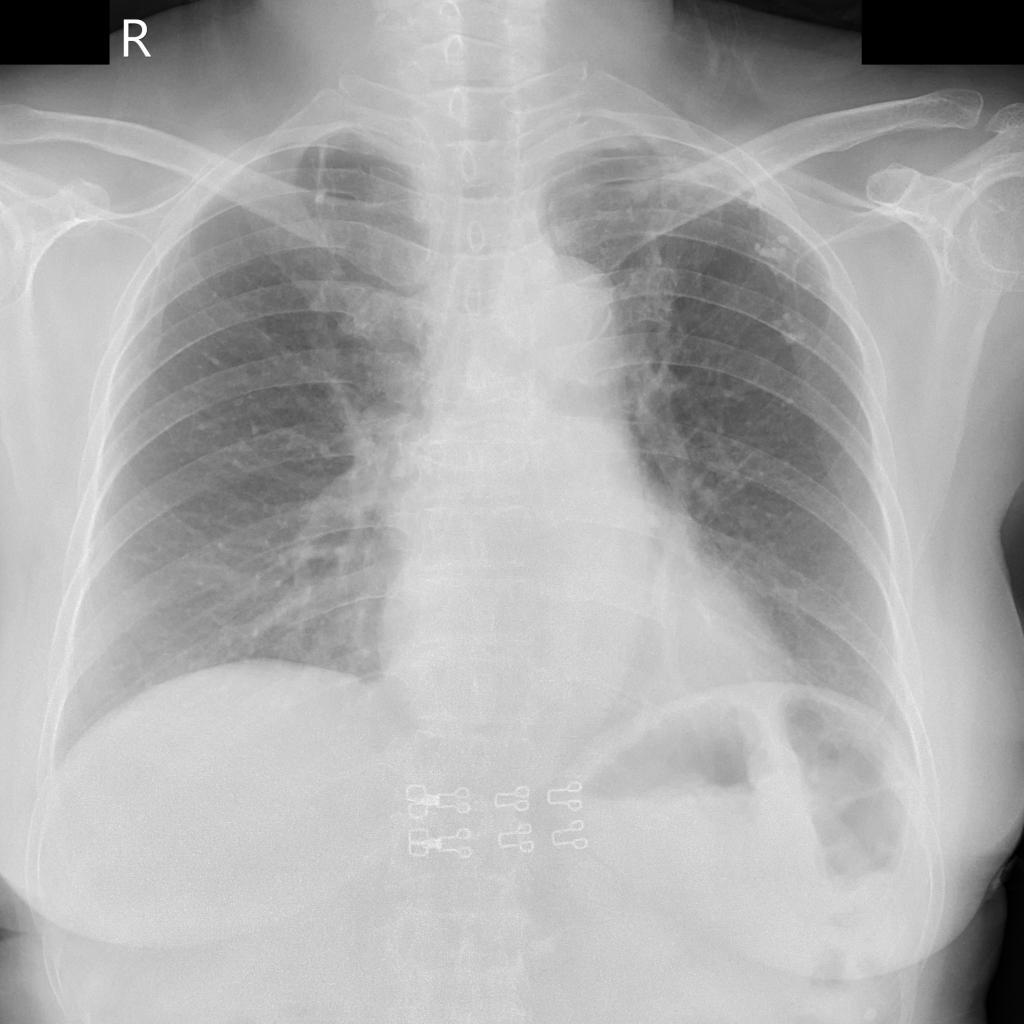Nodule: (775, 311, 813, 348), (749, 231, 793, 262), (744, 191, 765, 212)
